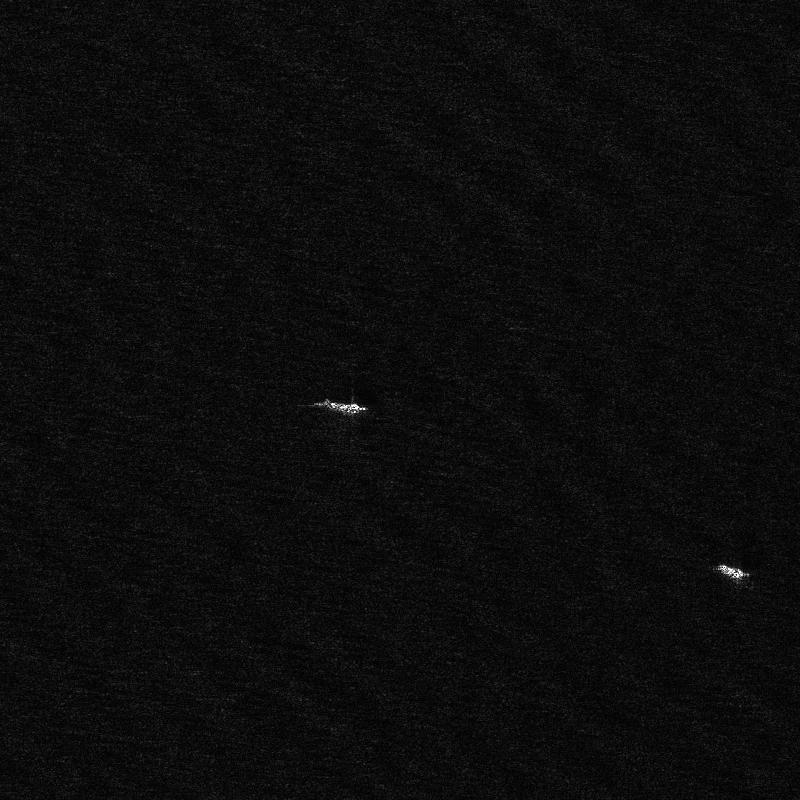ship: (314, 398, 367, 414), (716, 564, 743, 579)
